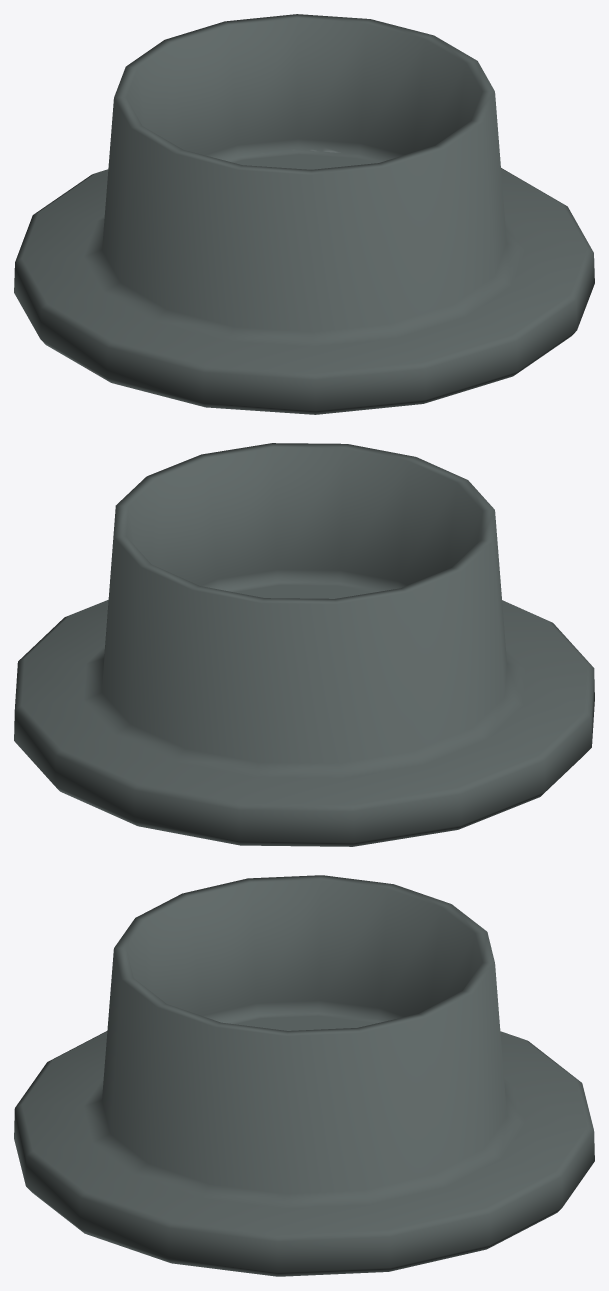
File: Cap.fbx
3 views of the same model, one above another, from view 1: azimuth 30°, elevation 25°; view 2: azimuth 150°, elevation 25°; view 3: azimuth 270°, elevation 25° (orthographic).
Visible parts, largest first — view 1: Cap; view 2: Cap; view 3: Cap.
Boxes of the visible parts, <box> form: Cap: <box>14,14,594,414</box>; Cap: <box>14,443,594,846</box>; Cap: <box>14,875,594,1276</box>.
Bounding box in the file's own units: 4.11 × 1.6 × 4.11.
